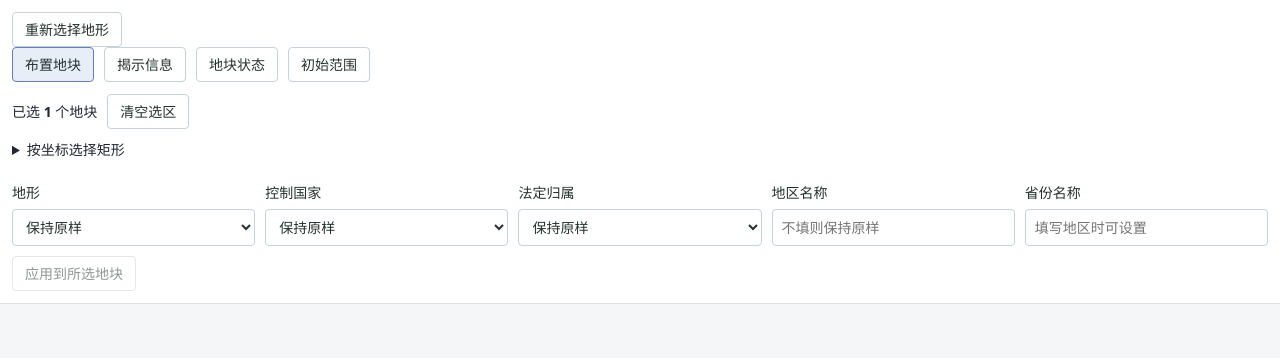
it: map editing and reveal workflow › retains a failed batch and selection, then retries against the refreshed revision
Step 1. Select "森林" in the dropdown labelled "地形" → (134, 228), box [12,209,255,246]
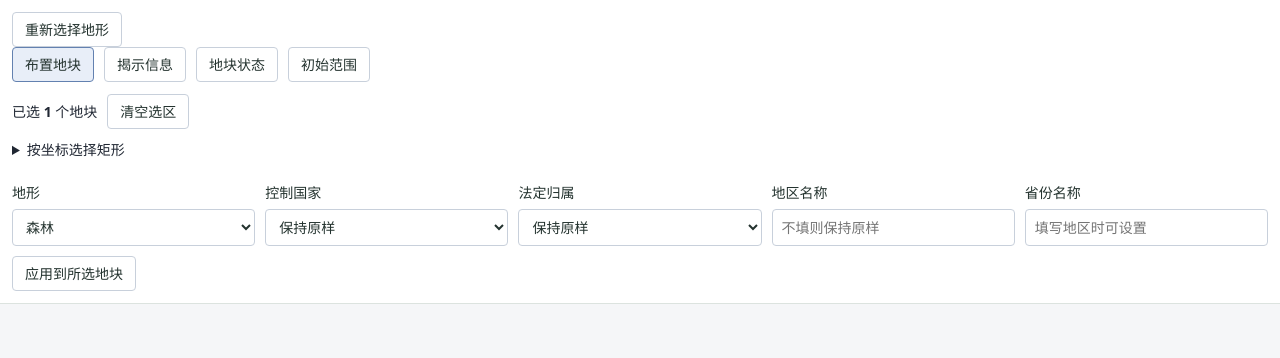
Step 2. Type "北地" into the field labelled "地区名称" → (893, 228), box [772,209,1015,246]
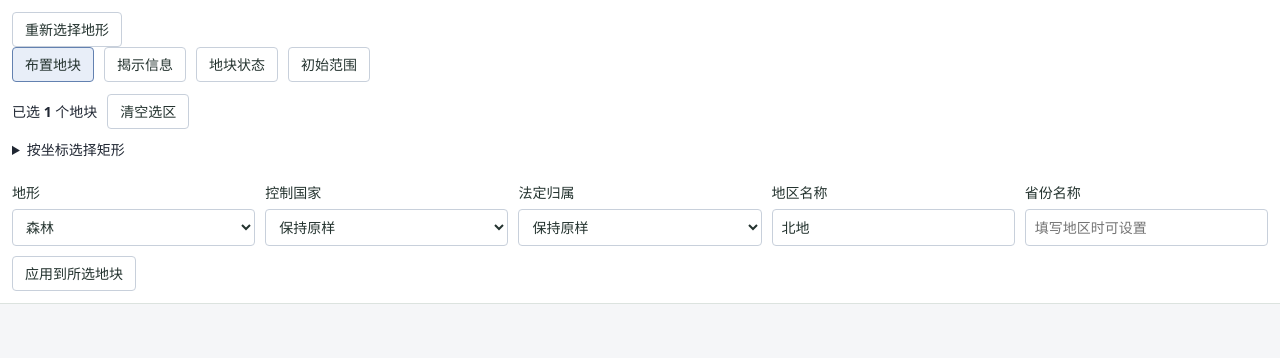
Step 3. Click the button "应用到所选地块" → (74, 274), box [12,256,136,291]
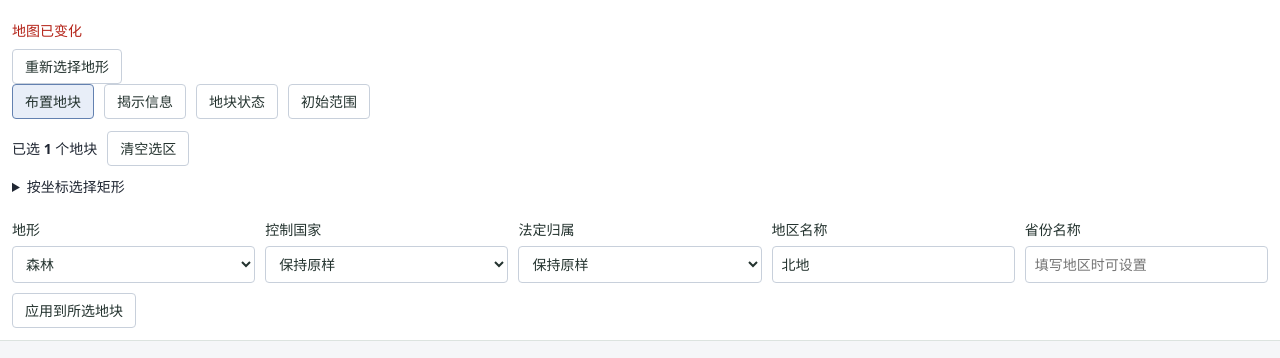
Expected: the text "已选 1 个地块" is shown, [12,138,97,159]
Expected: the button "应用到所选地块" is enabled
Expected: the message "地图已变化" is shown, [12,21,82,40]
Step 4. Click the button "应用到所选地块" → (74, 310), box [12,293,136,328]
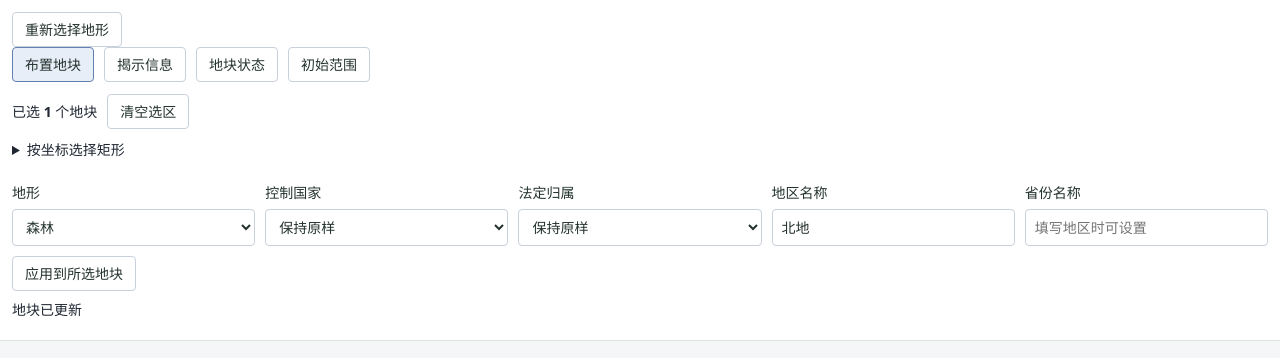
Expected: the text "地块已更新" is shown, [12,300,82,319]
